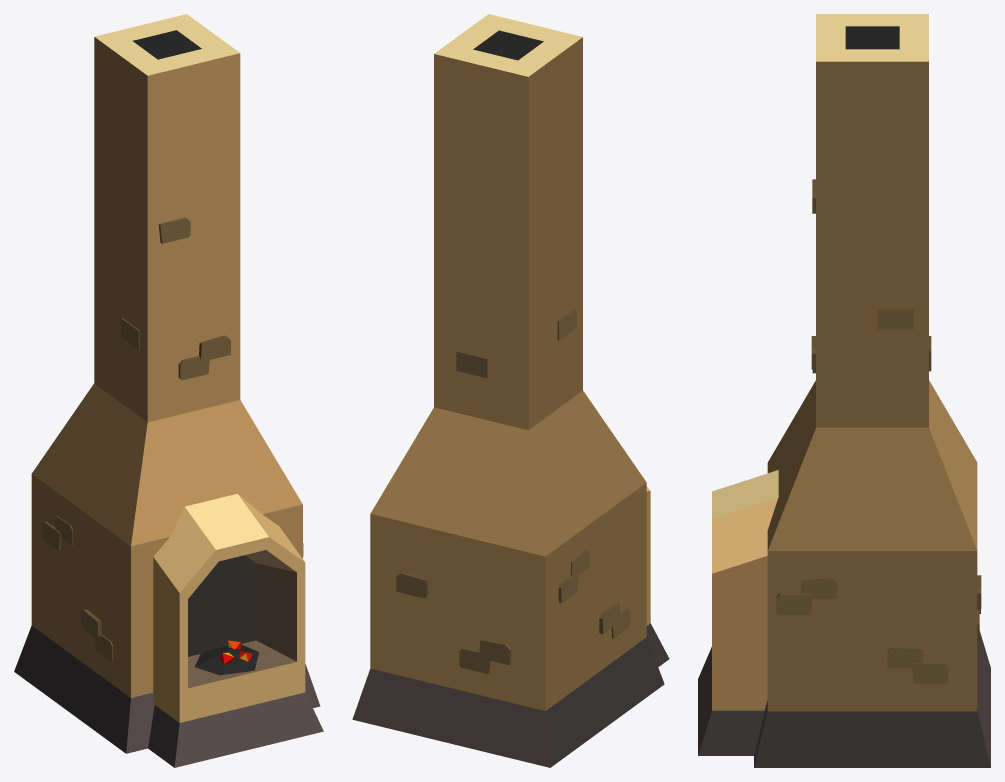
File: TB_D_Bd_Kiln_Yel.FBX
The picture shows the model from 3 angles, left to right: view 1: azimuth 30°, elevation 25°; view 2: azimuth 150°, elevation 25°; view 3: azimuth 270°, elevation 25°; orthographic projection. The views are drawn at different scales.
Visible parts, largest first — view 1: TB_D_Bd_Kiln_Yel; view 2: TB_D_Bd_Kiln_Yel; view 3: TB_D_Bd_Kiln_Yel.
Boxes of the visible parts, x1,y1,x2,y2 form: TB_D_Bd_Kiln_Yel: (14,14,323,767); TB_D_Bd_Kiln_Yel: (352,14,669,767); TB_D_Bd_Kiln_Yel: (698,14,990,767).
Size of the model in its own units: 2.26 by 7.16 by 2.8.
